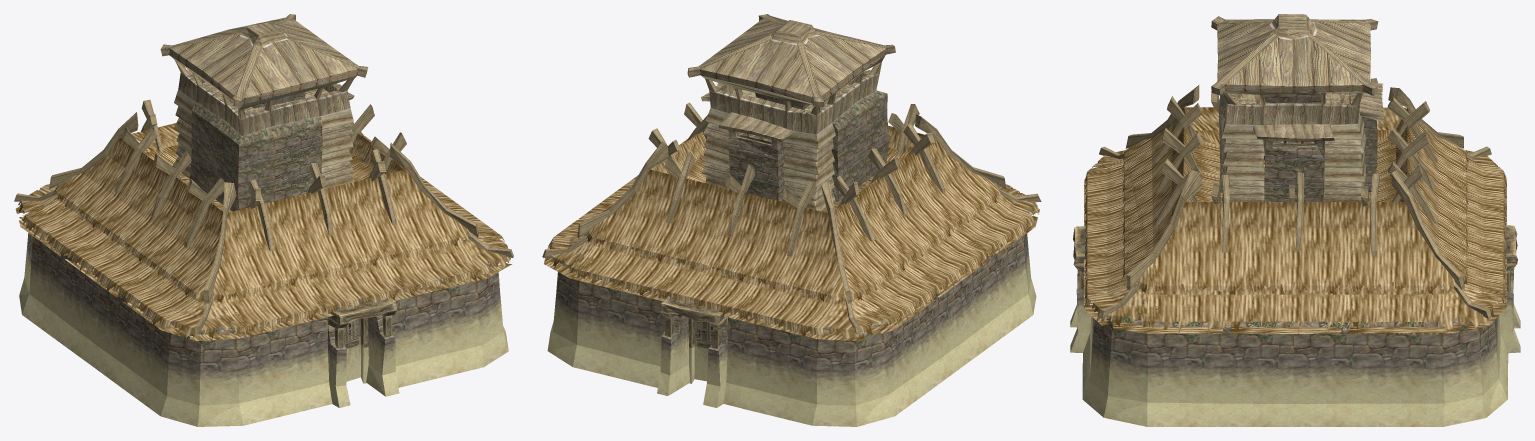
The model's file is C3SMHUT2H.obj.
The picture shows the model from 3 angles, left to right: view 1: azimuth 30°, elevation 25°; view 2: azimuth 150°, elevation 25°; view 3: azimuth 270°, elevation 25°; orthographic projection. The views are drawn at different scales.
Visible parts, largest first — view 1: Node 0, Node 5; view 2: Node 0, Node 5; view 3: Node 0, Node 5.
Boxes of the visible parts, left/top/right/bottom form: Node 0: left=14, top=14, right=513, bottom=426; Node 5: left=15, top=123, right=511, bottom=340; Node 0: left=542, top=14, right=1041, bottom=426; Node 5: left=544, top=125, right=1039, bottom=341; Node 0: left=1070, top=14, right=1520, bottom=426; Node 5: left=1084, top=107, right=1506, bottom=334.
Bounding box in the file's own units: 28.86 × 23.68 × 30.41.
3 materials, 3 textured.
